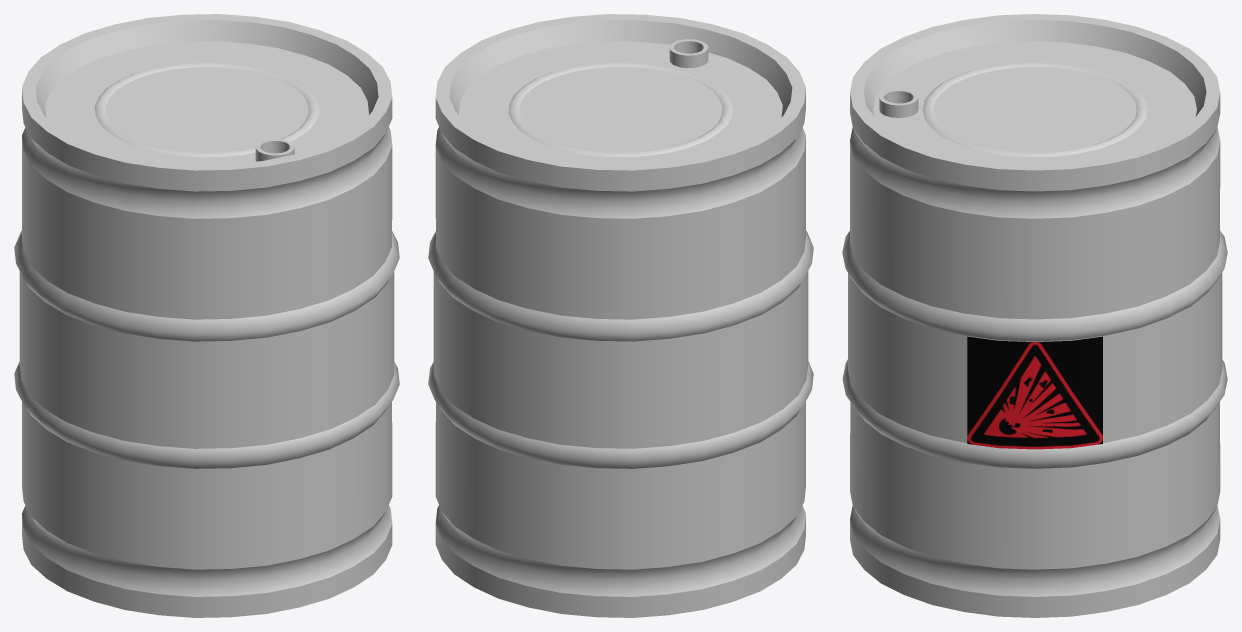
Rendered from barrel.glb.
The picture shows the model from 3 angles, left to right: view 1: azimuth 30°, elevation 25°; view 2: azimuth 150°, elevation 25°; view 3: azimuth 270°, elevation 25°; orthographic projection.
Parts seen in each view (by area): view 1: Cylinder; view 2: Cylinder; view 3: Cylinder, Cylinder.001.
Part boxes in pixels (<box>): Cylinder: <box>14,14,399,617</box>; Cylinder: <box>428,14,813,617</box>; Cylinder: <box>842,14,1227,617</box>; Cylinder.001: <box>967,336,1102,449</box>.
Bounding box in the file's own units: 24.07 × 30.83 × 24.07.
Materials: 2 (1 with a texture image).
